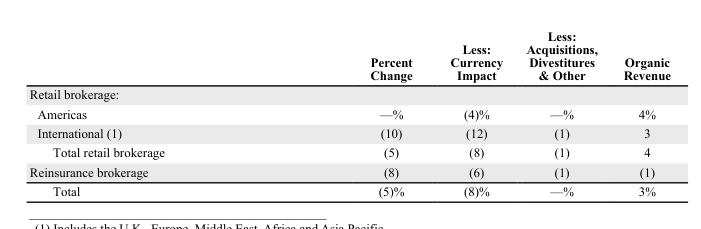table: (28, 28, 670, 197)
table column: (28, 28, 266, 197), (266, 28, 430, 197), (513, 28, 609, 197), (430, 28, 513, 197), (609, 28, 670, 197)
table column header: (28, 28, 670, 84)
table projected row header: (28, 84, 670, 103)
table row: (28, 28, 670, 84), (28, 122, 670, 142), (28, 161, 670, 181), (28, 84, 670, 103), (28, 103, 670, 122), (28, 142, 670, 161), (28, 181, 670, 197)
